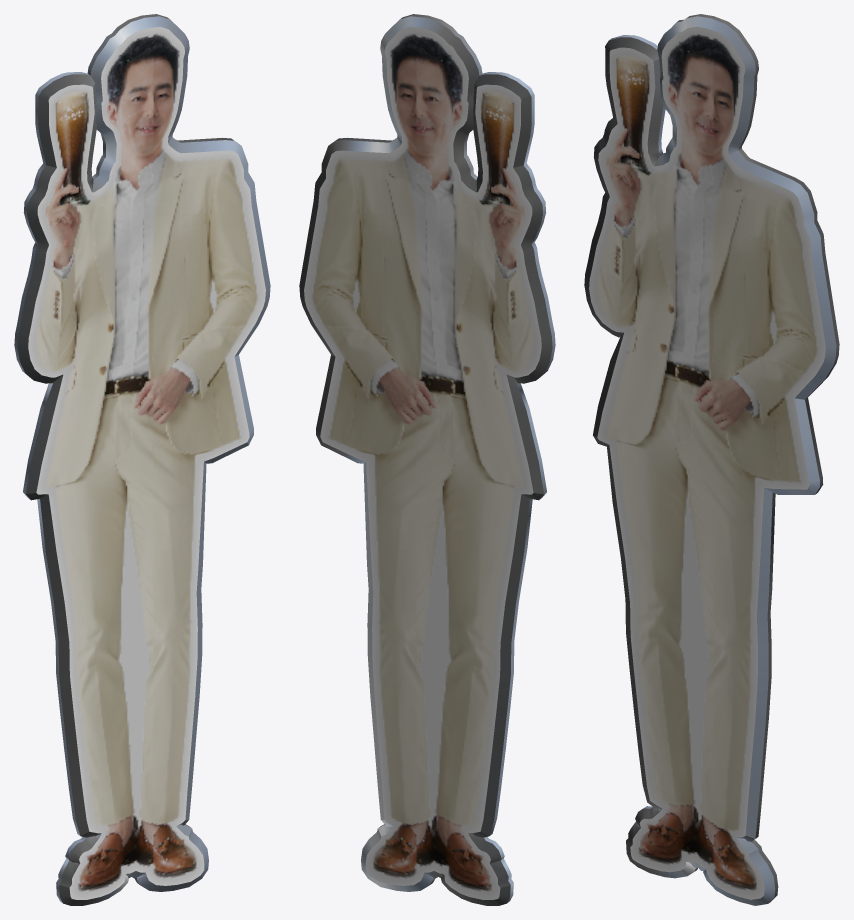
The model's file is panel_joinsune_1.FBX.
The picture shows the model from 3 angles, left to right: view 1: azimuth 30°, elevation 25°; view 2: azimuth 150°, elevation 25°; view 3: azimuth 330°, elevation 25°; orthographic projection.
Visible parts, largest first — view 1: panel_joinsung_1; view 2: panel_joinsung_1; view 3: panel_joinsung_1.
Boxes of the visible parts, x1,y1,x2,y2 form: panel_joinsung_1: [14, 14, 270, 905]; panel_joinsung_1: [299, 14, 555, 905]; panel_joinsung_1: [584, 14, 839, 905].
Size of the model in its own units: 62.88 by 209 by 3.93.
Materials: 2 (2 with a texture image).
